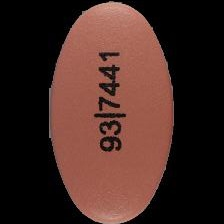55700-051: (0, 0, 224, 224)
